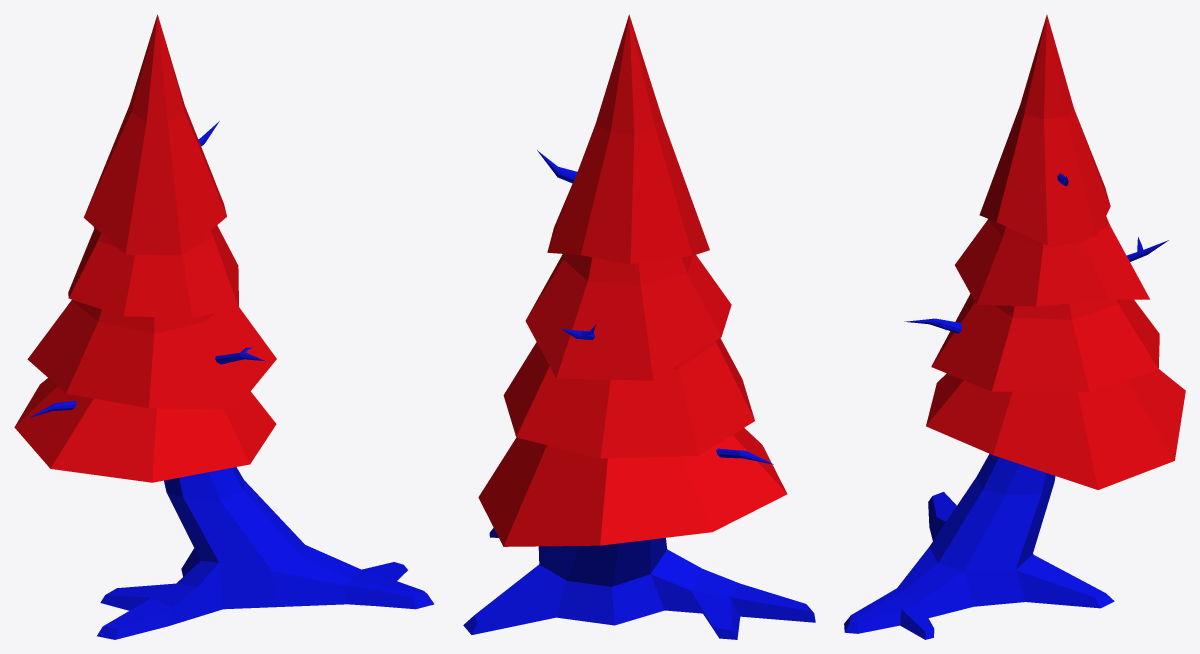
The model's file is SM_Conifer1.fbx.
The picture shows the model from 3 angles, left to right: view 1: azimuth 30°, elevation 25°; view 2: azimuth 150°, elevation 25°; view 3: azimuth 270°, elevation 25°; orthographic projection. The views are drawn at different scales.
Parts seen in each view (by area): view 1: SM_Conifer1; view 2: SM_Conifer1; view 3: SM_Conifer1.
Part boxes in pixels (box(x1,y1,x2,y2)): SM_Conifer1: box(14, 14, 434, 639); SM_Conifer1: box(463, 14, 815, 639); SM_Conifer1: box(844, 15, 1185, 639).
Size of the model in its own units: 182 by 304 by 175.
